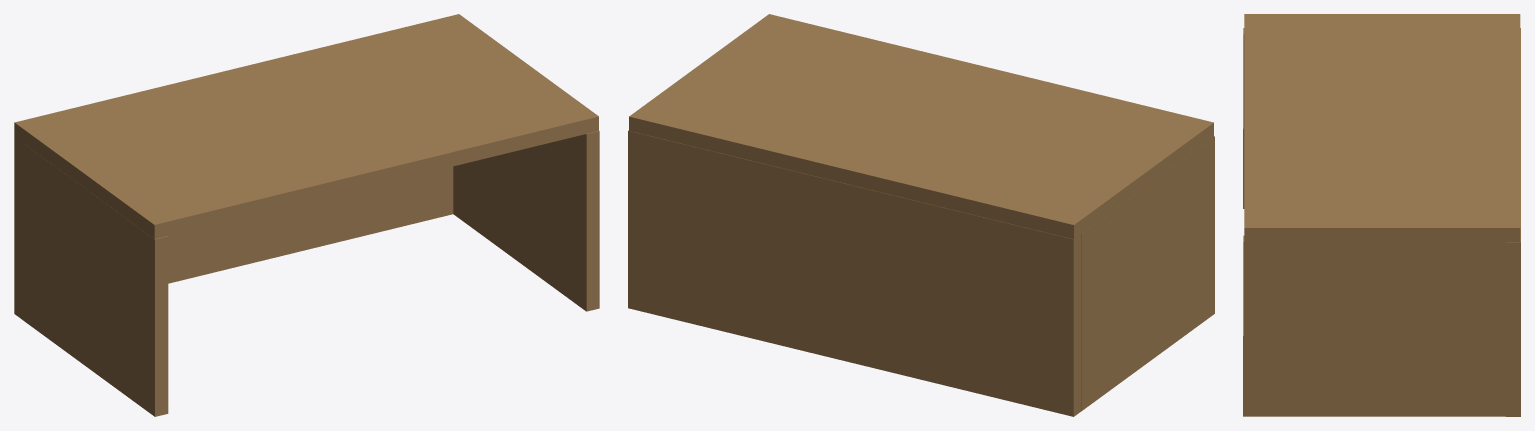
File: nehind balie desk.fbx
3 renders of one model, left to right at view 1: azimuth 30°, elevation 25°; view 2: azimuth 150°, elevation 25°; view 3: azimuth 270°, elevation 25°, orthographic.
Parts seen in each view (by area): view 1: Cube.145, Cube.148, Cube.147, Cube.146; view 2: Cube.146, Cube.145, Cube.148; view 3: Cube.145, Cube.147, Cube.146, Cube.148.
Boxes of the visible parts, <box> form: Cube.145: <box>14,14,598,238</box>; Cube.148: <box>22,142,168,416</box>; Cube.147: <box>453,131,599,311</box>; Cube.146: <box>14,137,453,319</box>; Cube.146: <box>628,130,1081,416</box>; Cube.145: <box>629,14,1213,239</box>; Cube.148: <box>1081,136,1214,411</box>; Cube.145: <box>1244,14,1520,241</box>; Cube.147: <box>1243,235,1505,416</box>; Cube.146: <box>1505,28,1520,416</box>; Cube.148: <box>1243,28,1244,208</box>.
Size of the model in its own units: 400 by 164 by 219.
